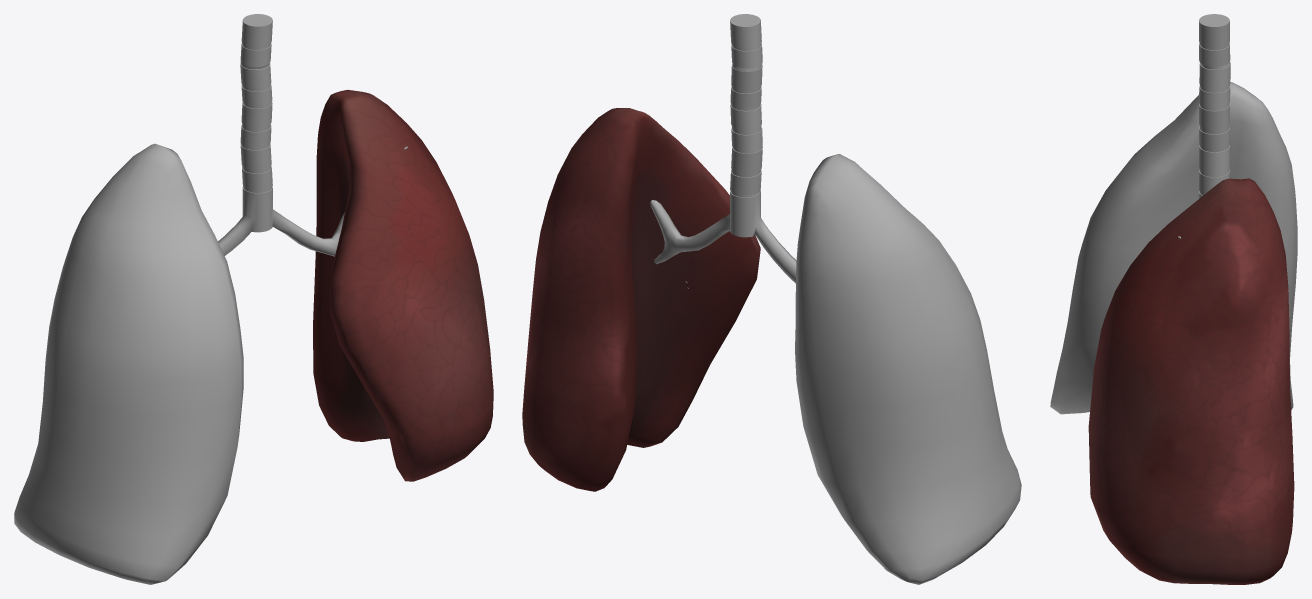
File: lungs_v10.fbx
The picture shows the model from 3 angles, left to right: view 1: azimuth 30°, elevation 25°; view 2: azimuth 150°, elevation 25°; view 3: azimuth 270°, elevation 25°; orthographic projection. The views are drawn at different scales.
Parts seen in each view (by area): view 1: R_Lobe, L_Lobe, Bronchi; view 2: R_Lobe, L_Lobe, Bronchi; view 3: L_Lobe, R_Lobe, Bronchi.
Boxes of the visible parts, x1,y1,x2,y2 form: R_Lobe: (14, 143, 243, 584); L_Lobe: (313, 89, 493, 481); Bronchi: (218, 14, 407, 256); R_Lobe: (795, 154, 1021, 584); L_Lobe: (522, 108, 760, 491); Bronchi: (650, 14, 796, 288); L_Lobe: (1088, 178, 1294, 584); R_Lobe: (1050, 82, 1297, 414); Bronchi: (1178, 14, 1230, 238).
Bounding box in the file's own units: 355 × 369 × 169.
